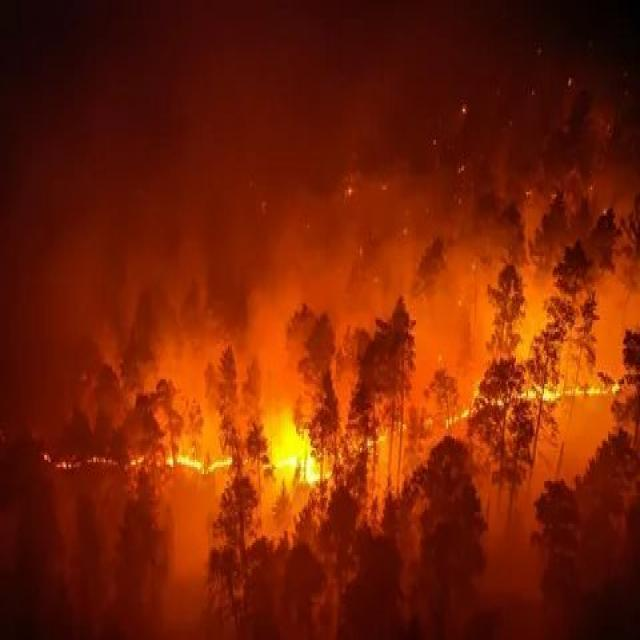Fire: (55, 366, 435, 509), (389, 342, 640, 429)
